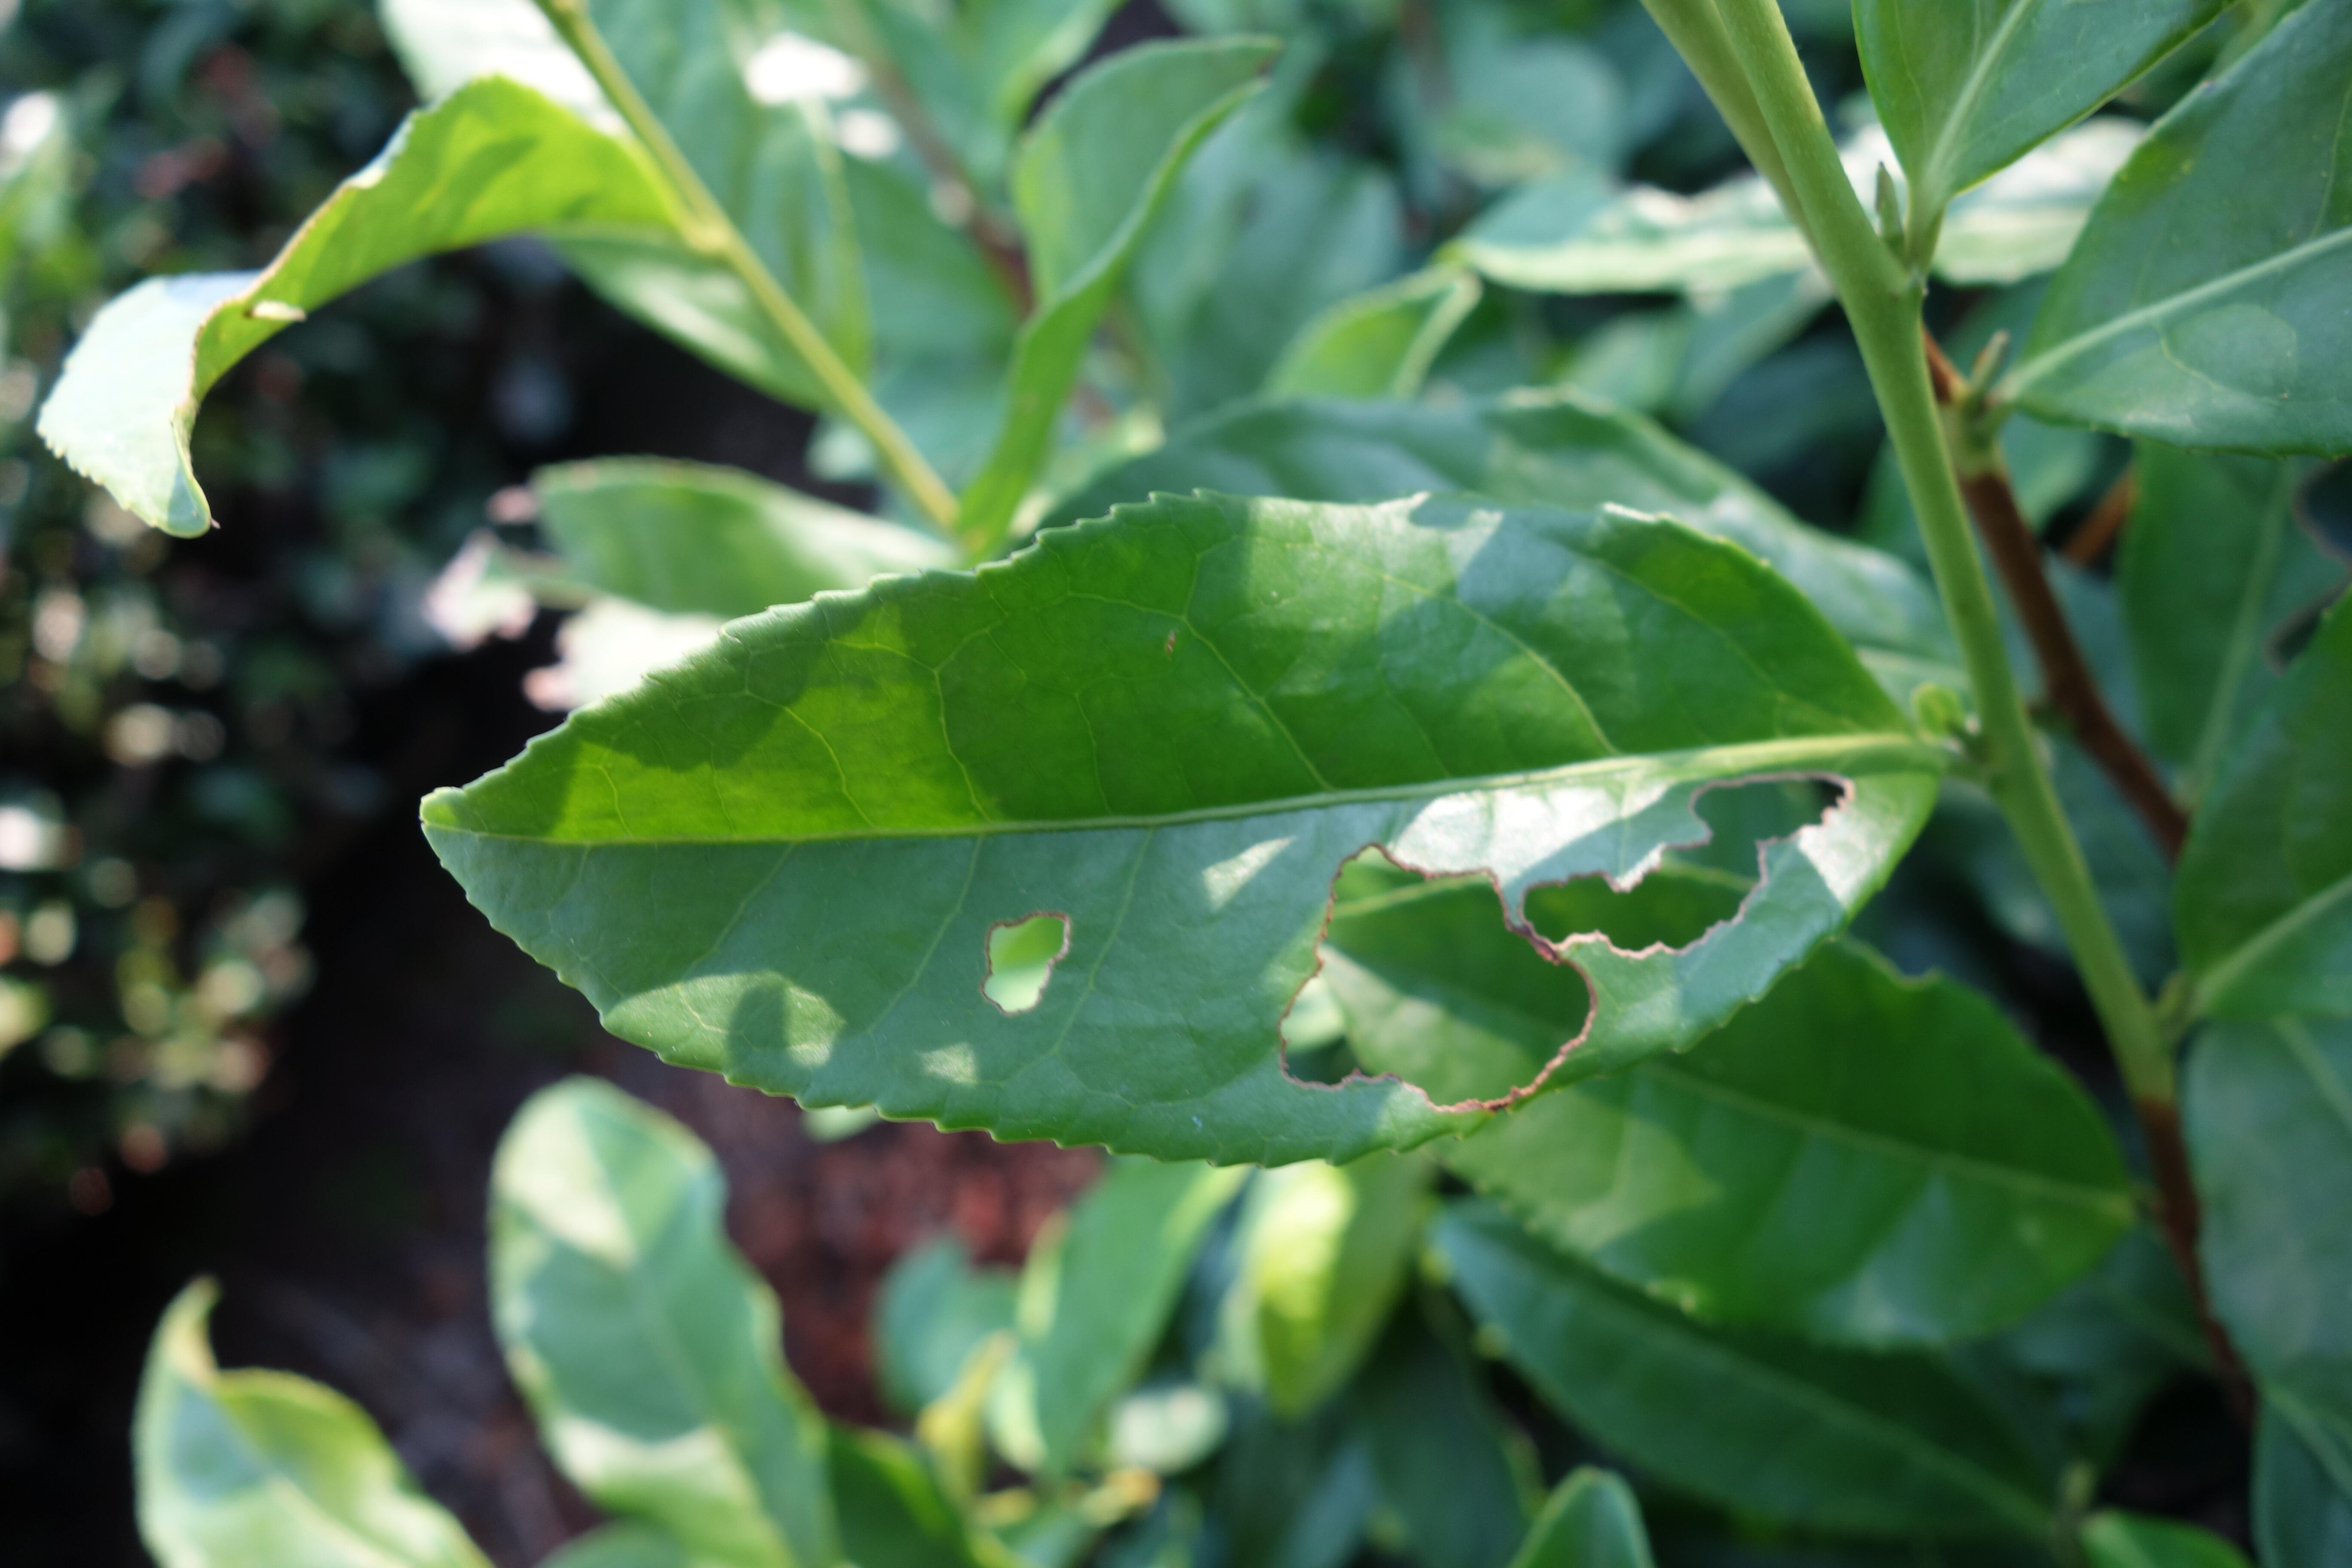chihuo_high: (418, 486, 1972, 1171)
